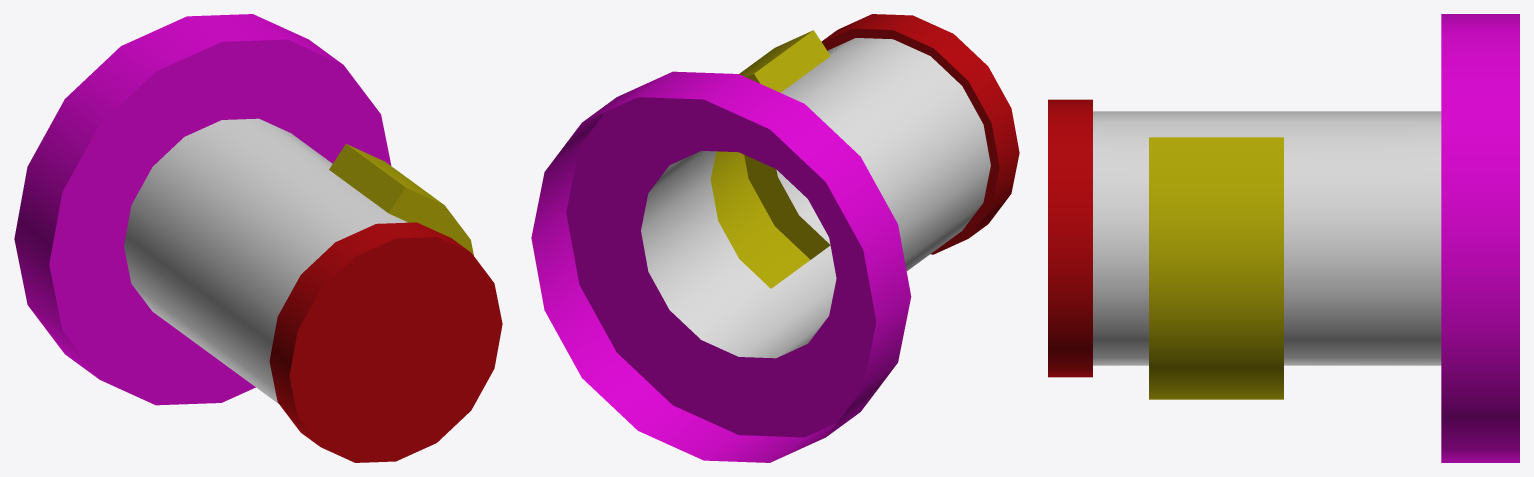
The model's file is receiver.fbx.
The picture shows the model from 3 angles, left to right: view 1: azimuth 30°, elevation 25°; view 2: azimuth 150°, elevation 25°; view 3: azimuth 270°, elevation 25°; orthographic projection. The views are drawn at different scales.
Visible parts, largest first — view 1: Receiver; view 2: Receiver; view 3: Receiver.
Part boxes in pixels (x1,y1,x2,y2): Receiver: (14, 14, 502, 462); Receiver: (531, 14, 1019, 462); Receiver: (1048, 14, 1519, 462).
Size of the model in its own units: 20 by 20 by 21.
